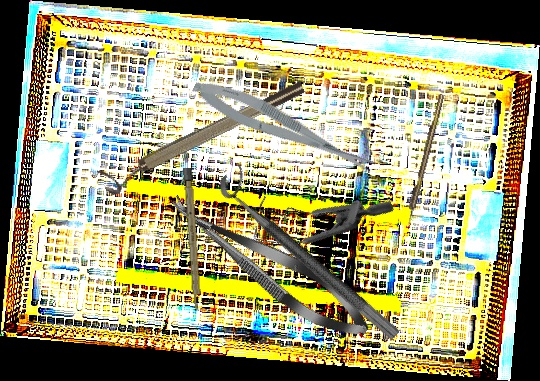Fixation Ring: (214, 161, 414, 342), (97, 77, 311, 199)
Hook Surgical: (403, 93, 446, 228)
Micro Scissor: (159, 181, 380, 352), (187, 70, 380, 186)
Scalpel Handle: (183, 167, 202, 312)
Speculum: (237, 136, 396, 291)
